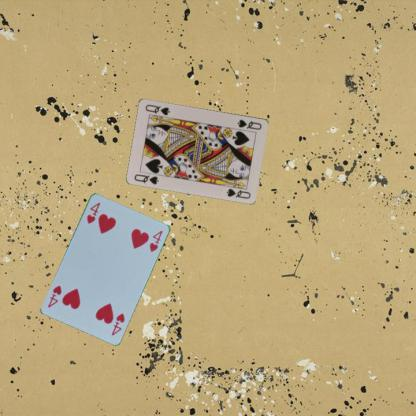4h: (83, 199, 102, 225), (109, 310, 126, 337)
Qs: (235, 116, 263, 130), (132, 172, 160, 186)
